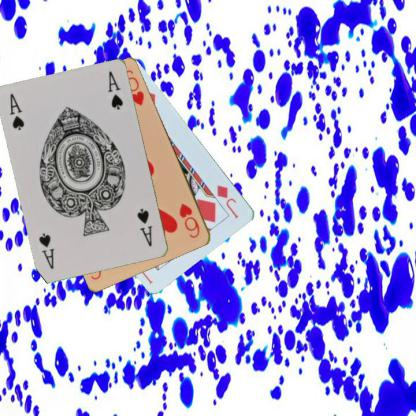6h: (176, 200, 202, 240)
As: (135, 206, 154, 248), (8, 91, 26, 132)
Jd: (214, 182, 240, 220)
